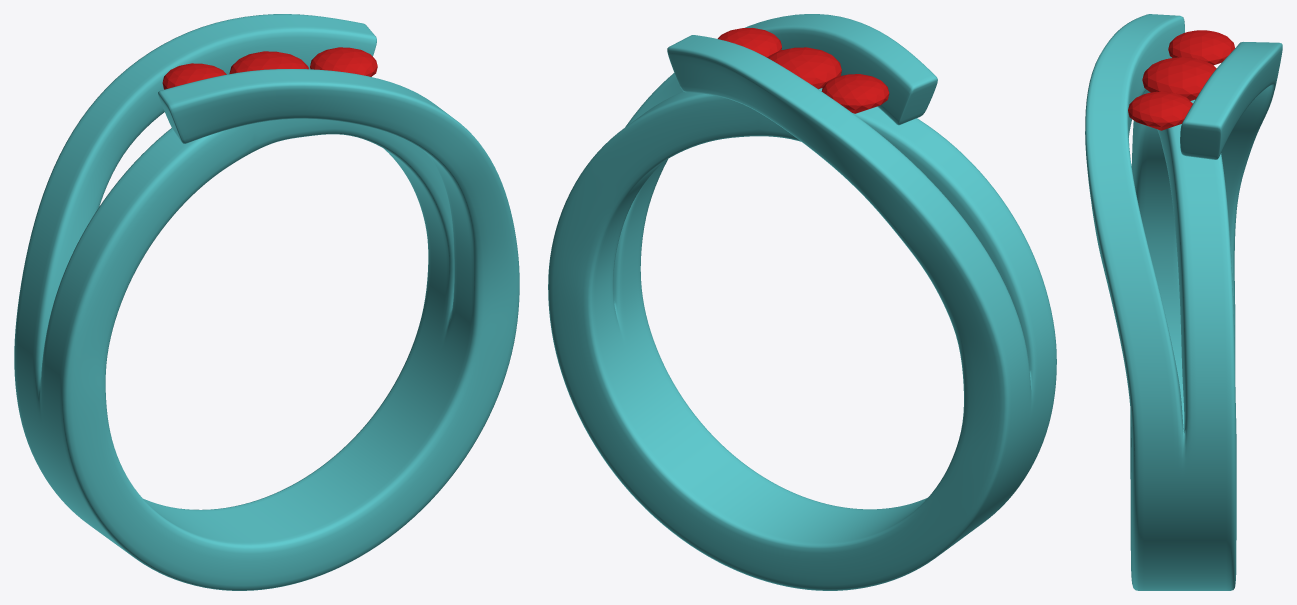
3 renders of one model, left to right at view 1: azimuth 30°, elevation 25°; view 2: azimuth 150°, elevation 25°; view 3: azimuth 270°, elevation 25°, orthographic.
Visible parts, largest first — view 1: Object009_$AssimpFbx$_PreRotation; view 2: Object009_$AssimpFbx$_PreRotation; view 3: Object009_$AssimpFbx$_PreRotation.
Boxes of the visible parts, x1,y1,x2,y2 form: Object009_$AssimpFbx$_PreRotation: (14, 14, 519, 590); Object009_$AssimpFbx$_PreRotation: (548, 14, 1056, 590); Object009_$AssimpFbx$_PreRotation: (1085, 14, 1282, 590).
Bounding box in the file's own units: 606 × 656 × 229.
